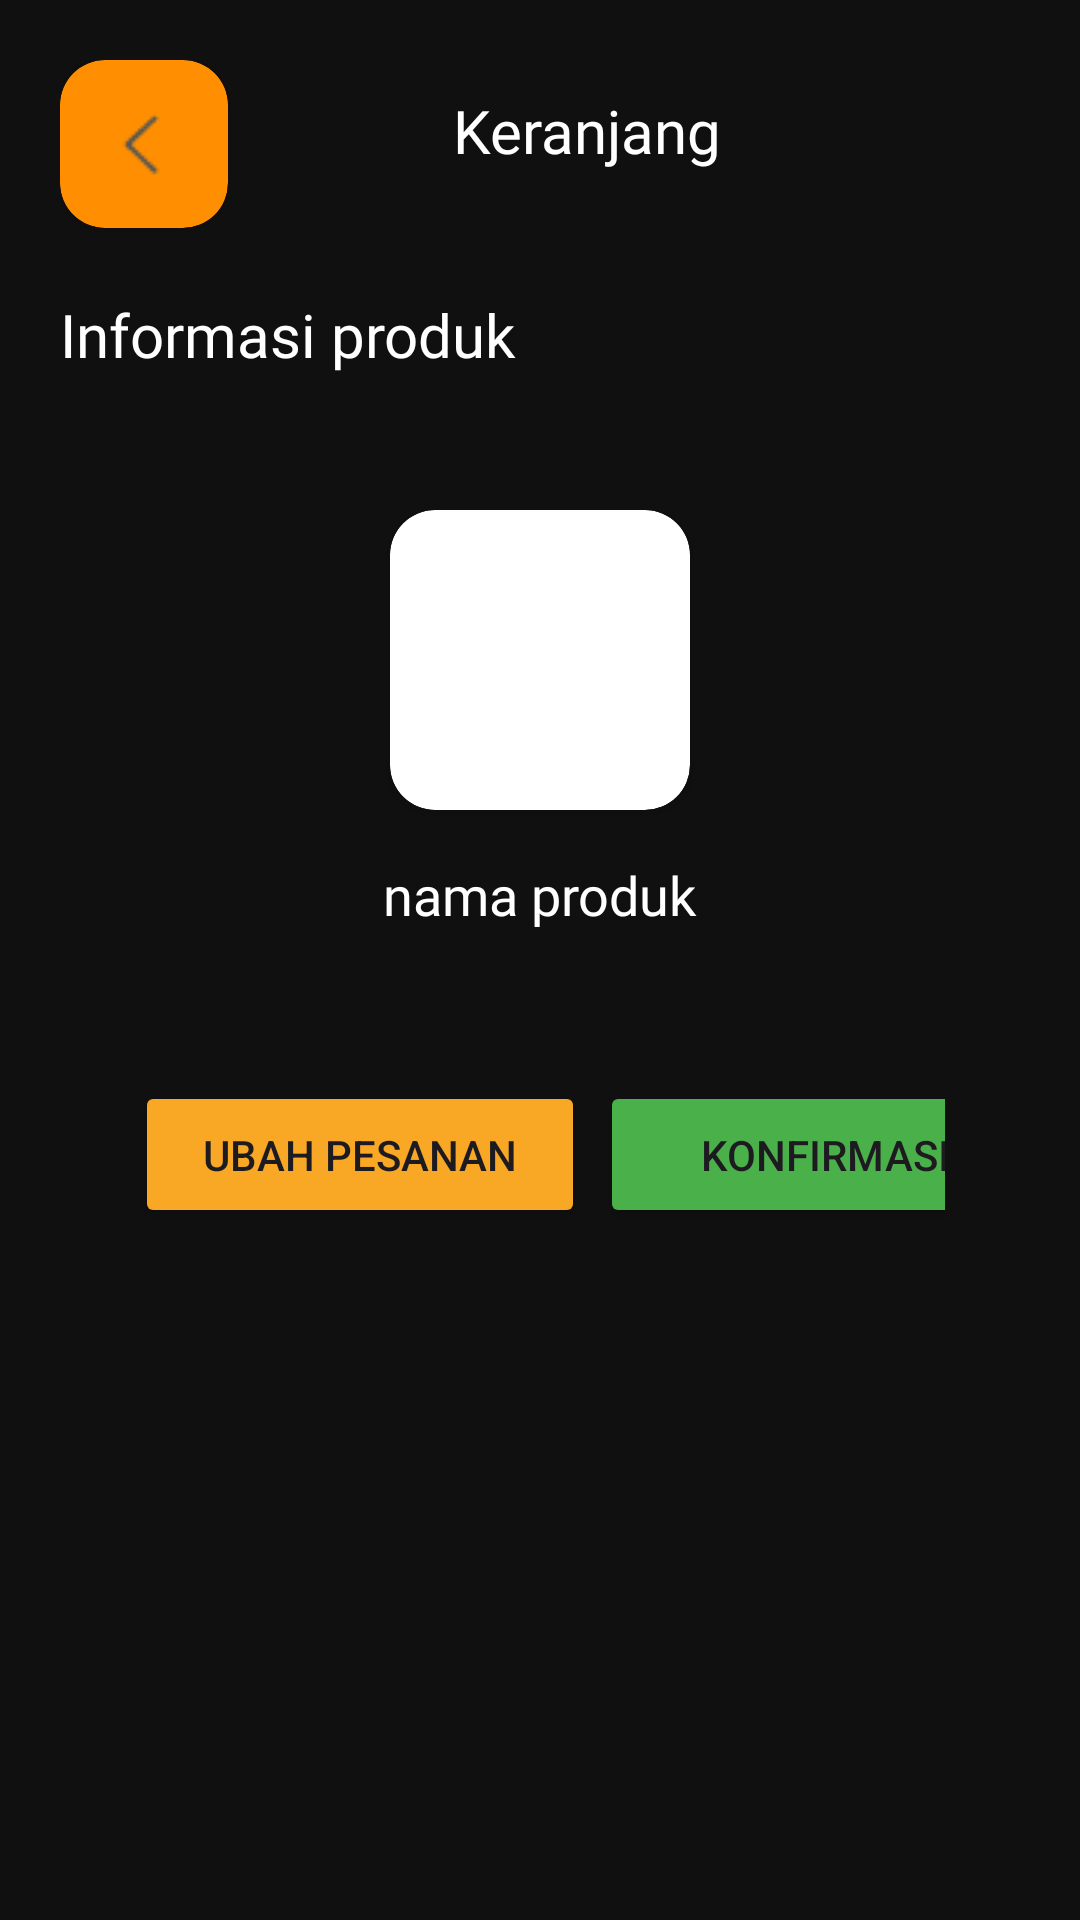

Icons on this 1080 x 1920 Android screen, each with its box as (x1, y1, x2, y2):
back arrow: (60, 60, 228, 228)
